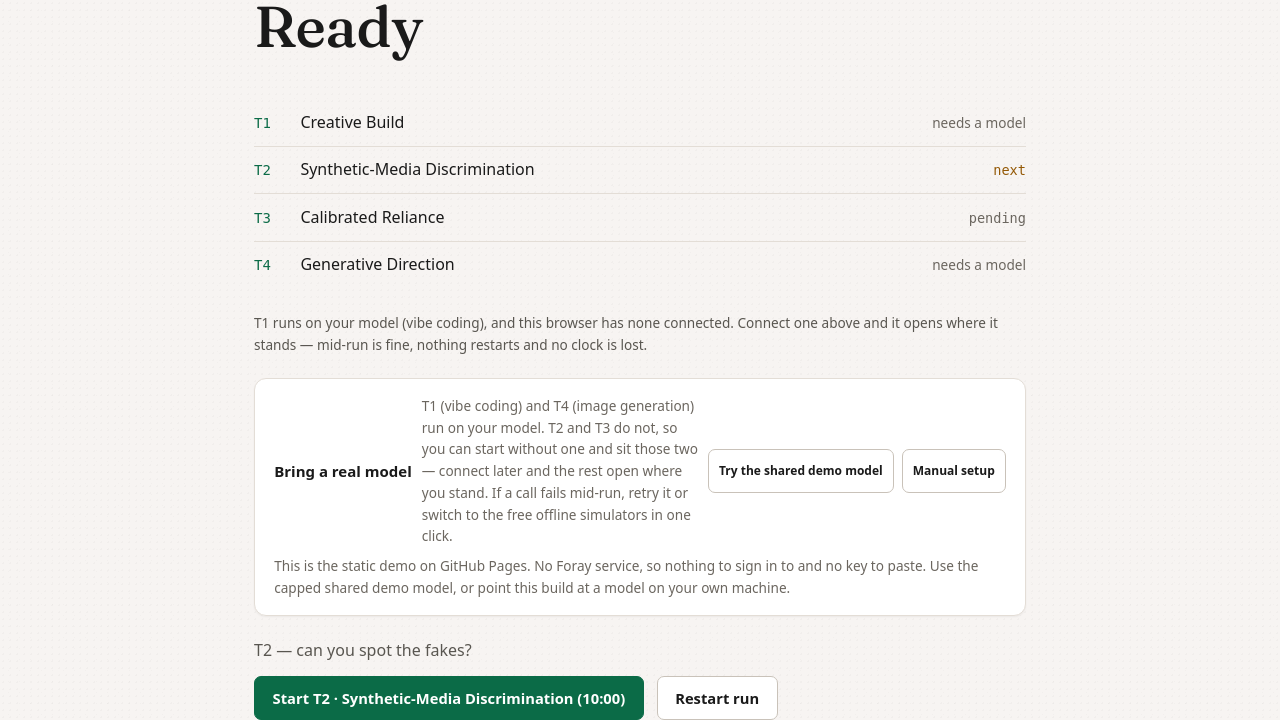
Test case: the exam page stops rather than warns › blocks the run when this browser will not hold it, instead of a banner over a live clock
The width and height of the screenshot is (1280, 720).
(page scrolled)
Click the button "Start T2 · Synthetic-Media Discrimination (10:00)" at (449, 698), box [254,676,644,719]
(page scrolled)
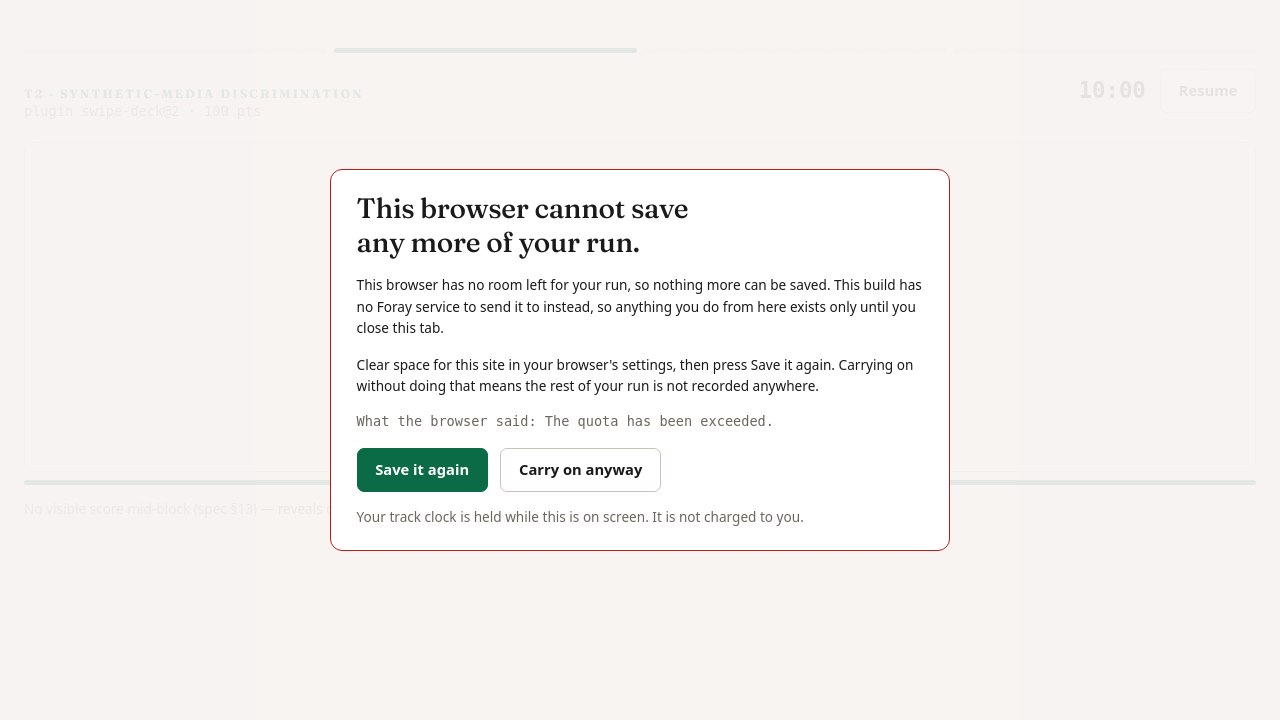
Expected: the dialog with test id "storage-stop" is shown
Expected: the dialog with test id "storage-stop" shows "This browser cannot save any more of your run.", [357,191,688,259]
Expected: the text with test id "storage-stop-reason" shows "The quota has been exceeded.", [357,413,774,429]
